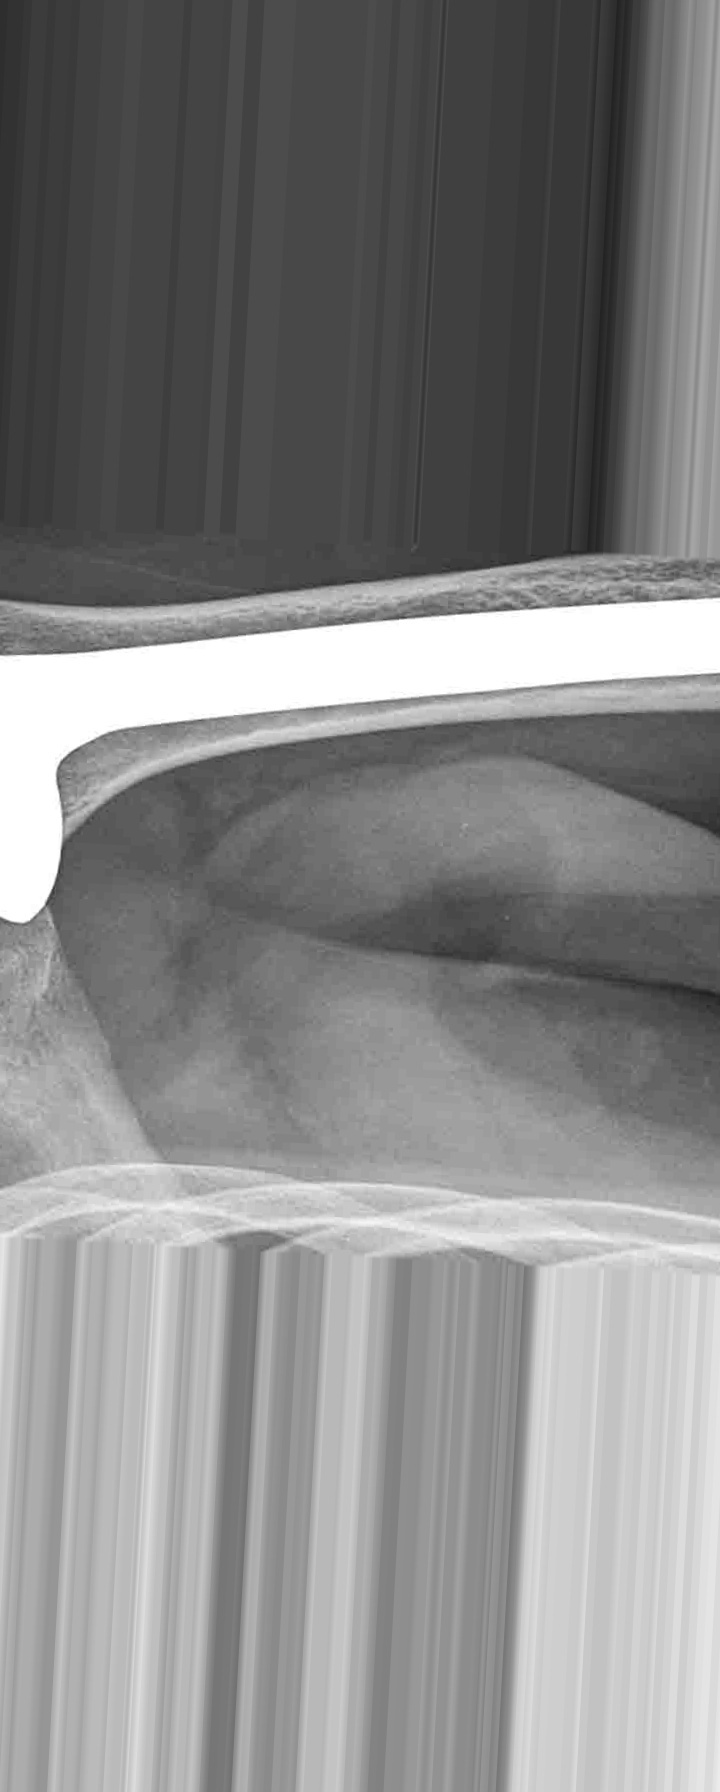Shoulder-Reverse-DJO: (1, 577, 720, 946)
